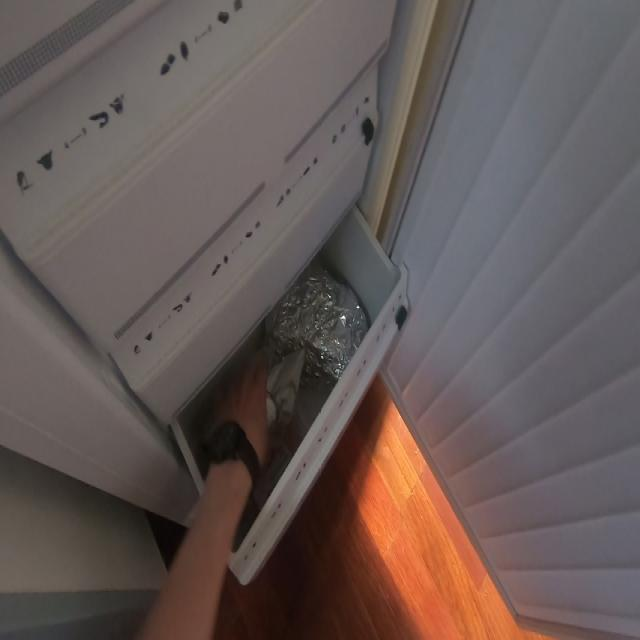freezer: (0, 66, 422, 566)
left hand: (196, 368, 273, 528)
